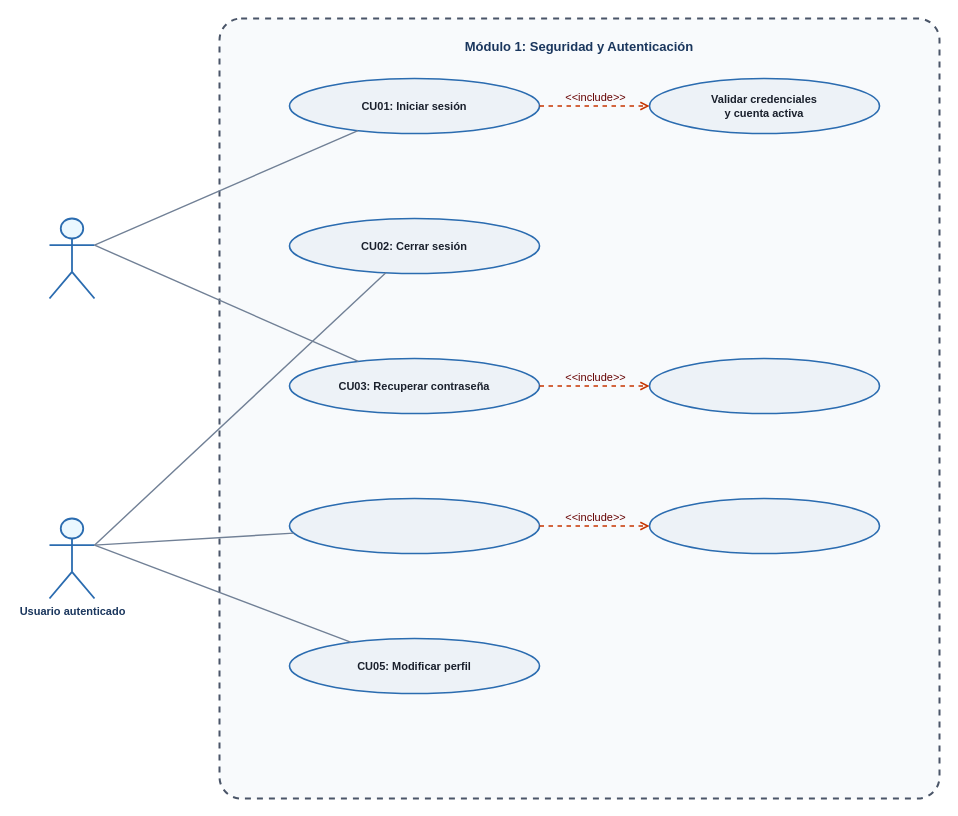
Some shapes in this 958 by 816 pixel diagram are drawn without their labels. Here are the shapes that lost their labels. From the top down, the box of each, then its label:
(48, 217, 95, 299): Usuario institucional
(648, 357, 880, 414): Verificar correo registrado y generar clave temporal
(288, 497, 540, 554): CU04: Cambiar contraseña
(648, 497, 880, 554): Confirmar clave actual y nueva contraseña
